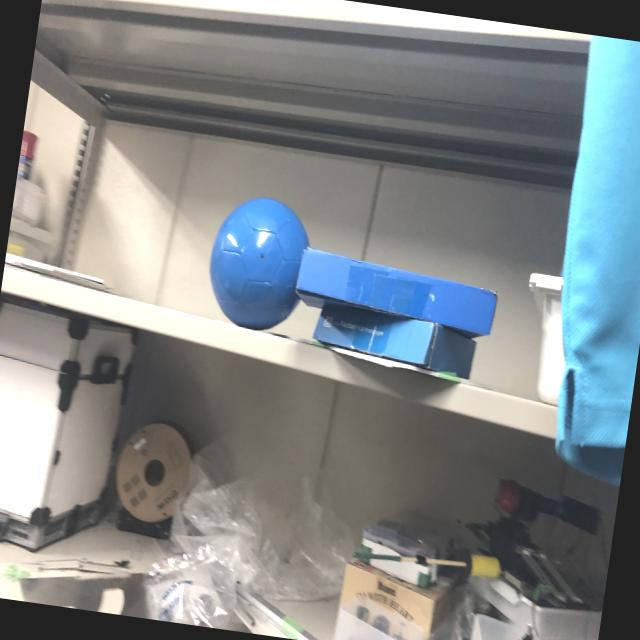blue_ball: (202, 190, 318, 334)
